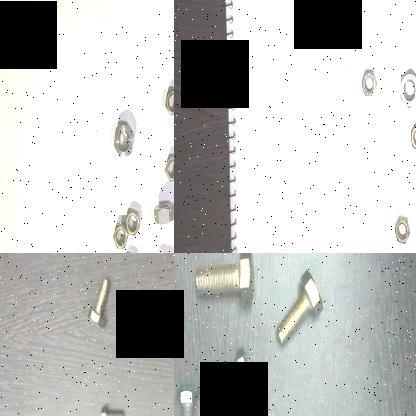Bolts: (272, 259, 328, 353), (189, 253, 253, 303), (209, 341, 254, 400), (86, 274, 110, 330), (174, 379, 203, 416), (317, 400, 372, 416), (125, 316, 142, 356), (97, 400, 123, 416)
NUTS: (110, 116, 134, 158), (396, 66, 416, 114), (149, 199, 174, 228), (358, 64, 378, 100), (389, 212, 409, 246), (109, 220, 130, 252), (124, 206, 141, 238), (161, 82, 174, 118), (165, 150, 174, 182), (408, 120, 416, 152)
